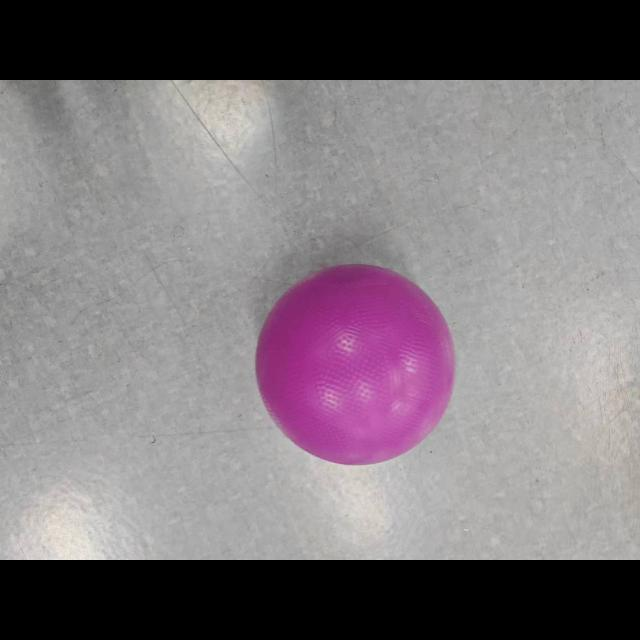P: (250, 261, 460, 467)
